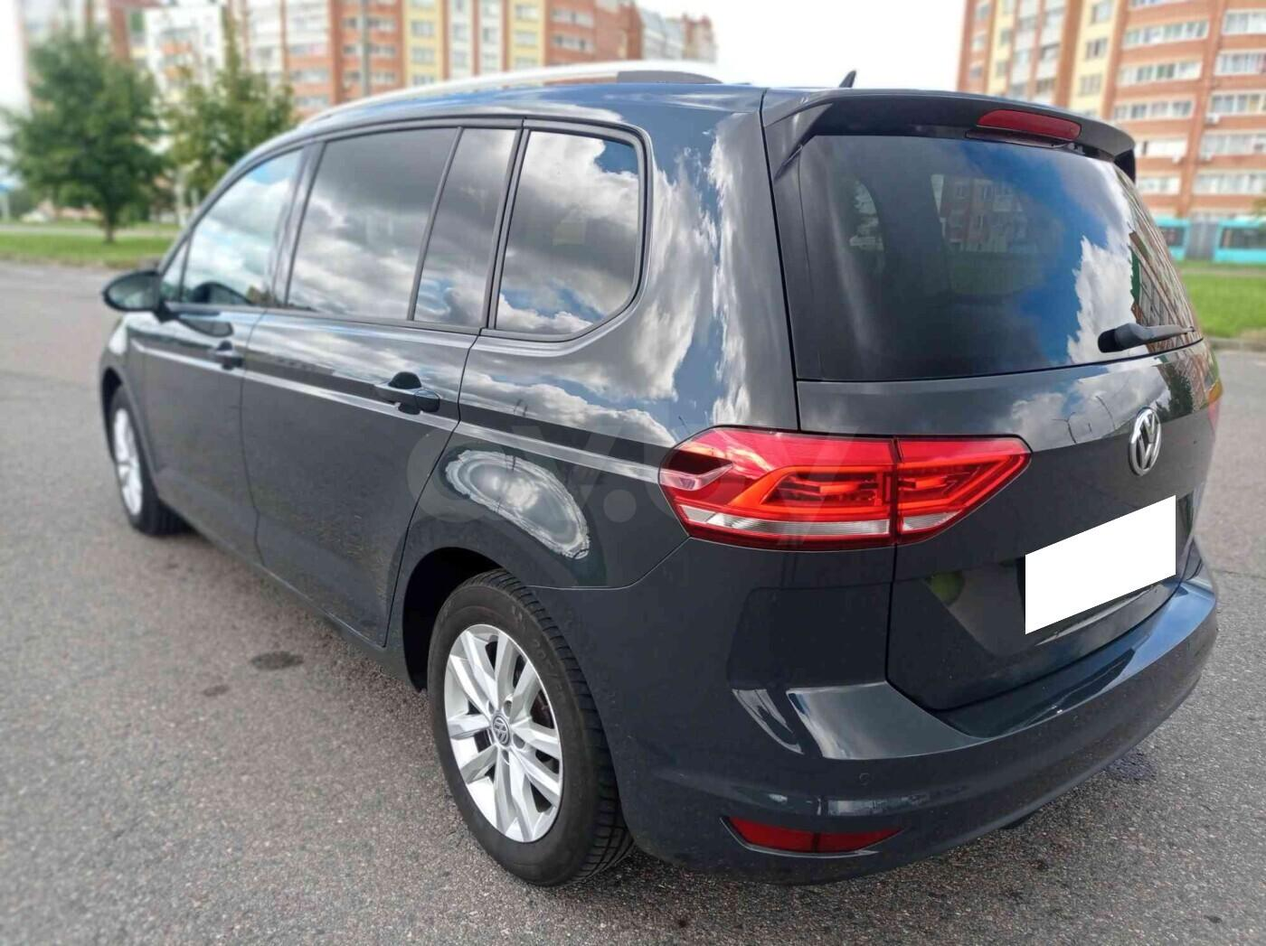Touran_2015: (89, 72, 1223, 888)
